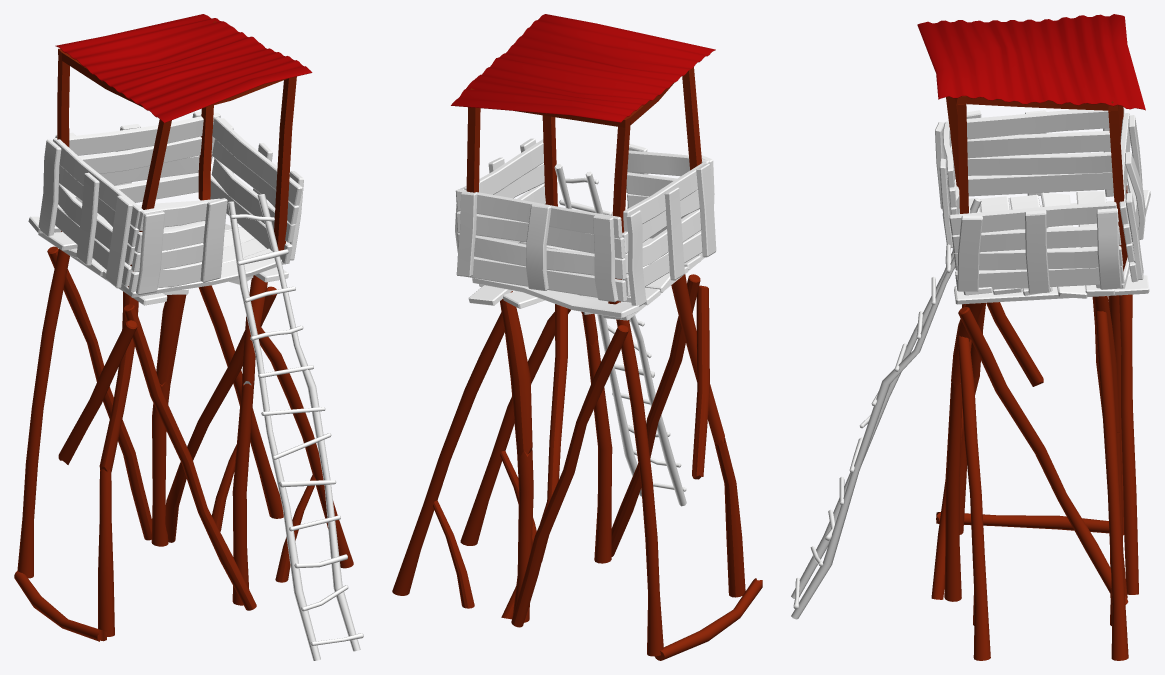
Rendered from TourDeGuet_01.fbx.
The picture shows the model from 3 angles, left to right: view 1: azimuth 30°, elevation 25°; view 2: azimuth 150°, elevation 25°; view 3: azimuth 270°, elevation 25°; orthographic projection. The views are drawn at different scales.
Parts seen in each view (by area): view 1: TourDeGuet_01; view 2: TourDeGuet_01; view 3: TourDeGuet_01.
Boxes of the visible parts, <box> form: TourDeGuet_01: <box>14,14,363,660</box>; TourDeGuet_01: <box>392,14,762,660</box>; TourDeGuet_01: <box>791,14,1150,660</box>.
Bounding box in the file's own units: 421 × 750 × 452.
